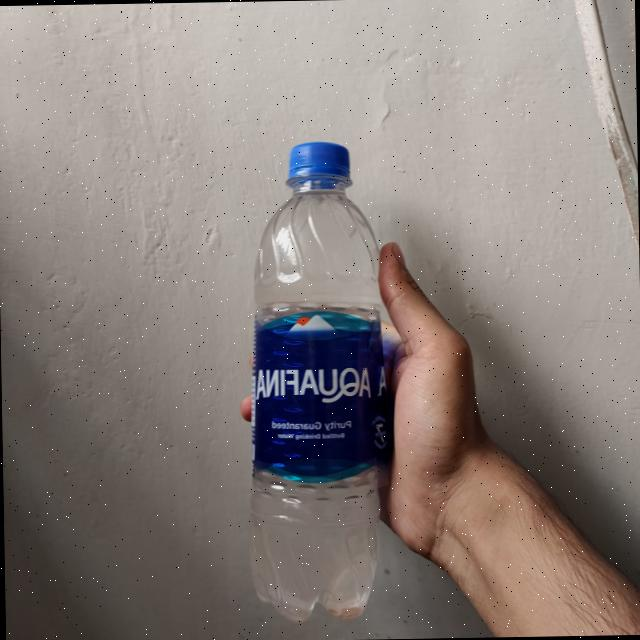bottle: (242, 138, 394, 621)
cap: (284, 143, 350, 199)
label: (250, 312, 382, 482)
